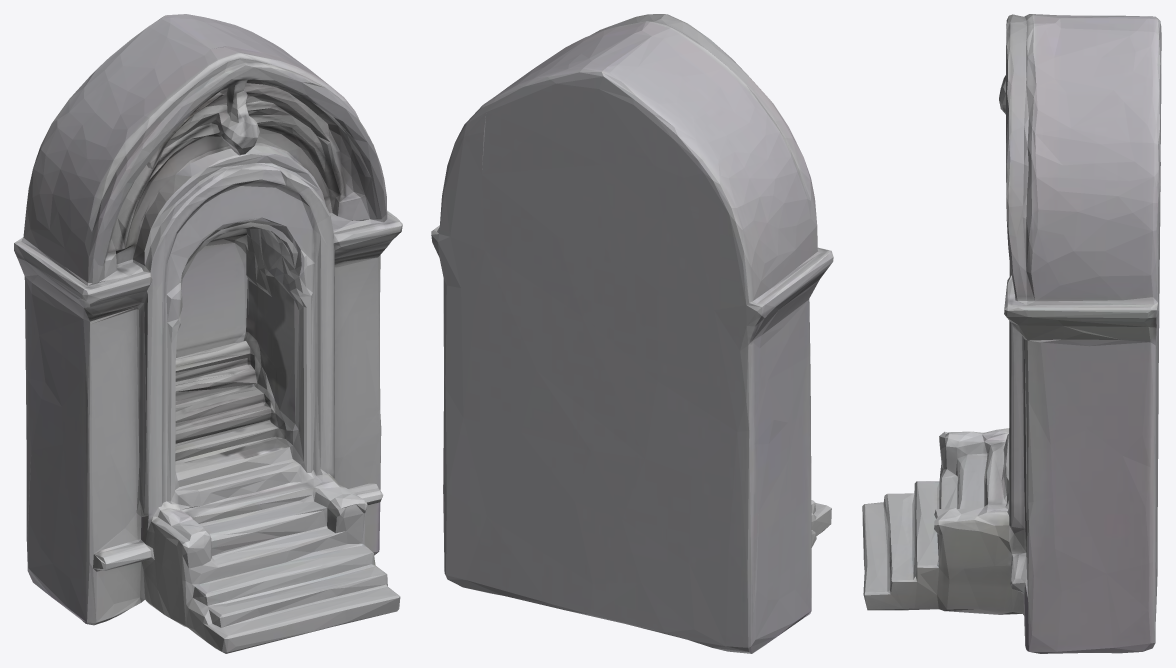
File: subway_entrance.glb
The picture shows the model from 3 angles, left to right: view 1: azimuth 30°, elevation 25°; view 2: azimuth 150°, elevation 25°; view 3: azimuth 270°, elevation 25°; orthographic projection. The views are drawn at different scales.
Parts seen in each view (by area): view 1: textured_mesh.obj; view 2: textured_mesh.obj; view 3: textured_mesh.obj.
Boxes of the visible parts, x1=… form: textured_mesh.obj: x1=14, y1=14, x2=402, y2=653; textured_mesh.obj: x1=431, y1=14, x2=833, y2=653; textured_mesh.obj: x1=862, y1=14, x2=1161, y2=653.
Size of the model in its own units: 3.15 by 5 by 2.42.
Materials: 1 (1 with a texture image).
